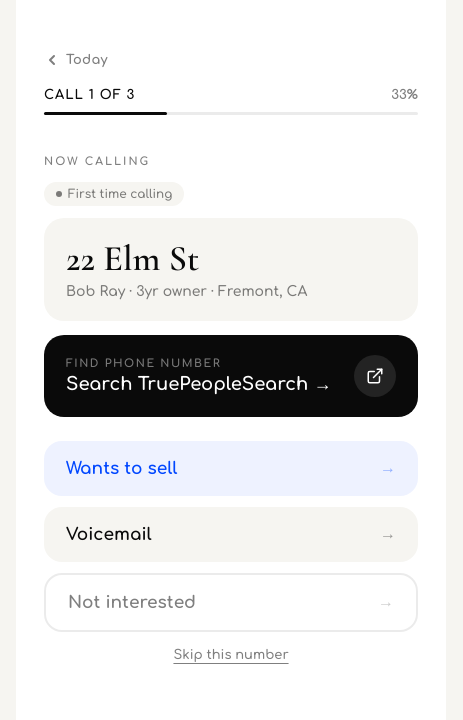
Scenario: DialSession › can step back to the previous homeowner
Click the button "Not interested →" at (132, 602), box [44,573,418,632]
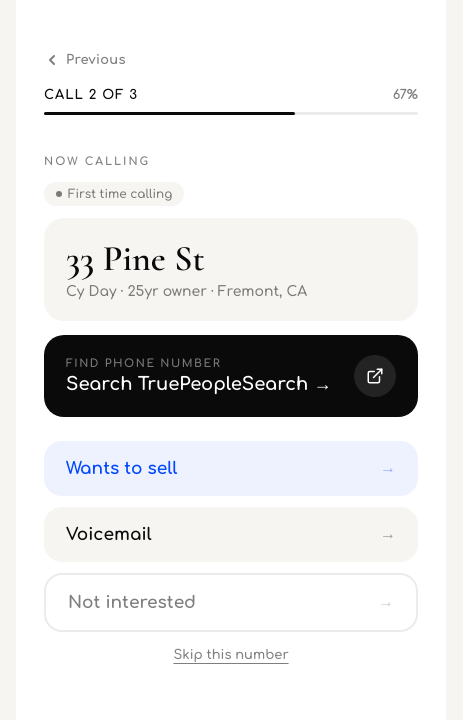
Result: the text "Call 2 of 3" is shown at [44,88,138,102]
Click the button "Previous" at (85, 60), box [44,52,126,68]
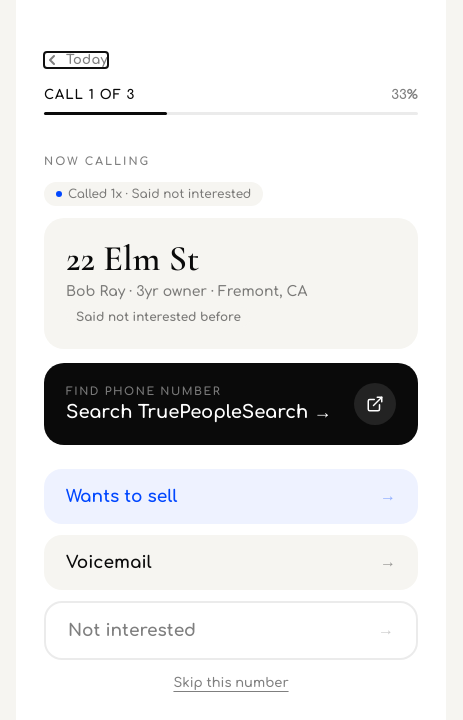
Result: the text "Call 1 of 3" is shown at [44,88,135,102]
Result: the text "22 Elm St" is shown at [66,237,199,280]
